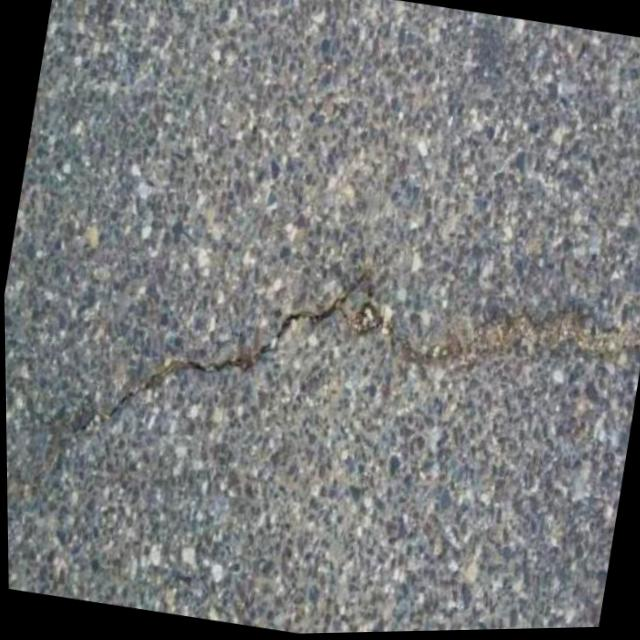Crack: (79, 339, 232, 454), (233, 259, 367, 390), (332, 298, 474, 378)
